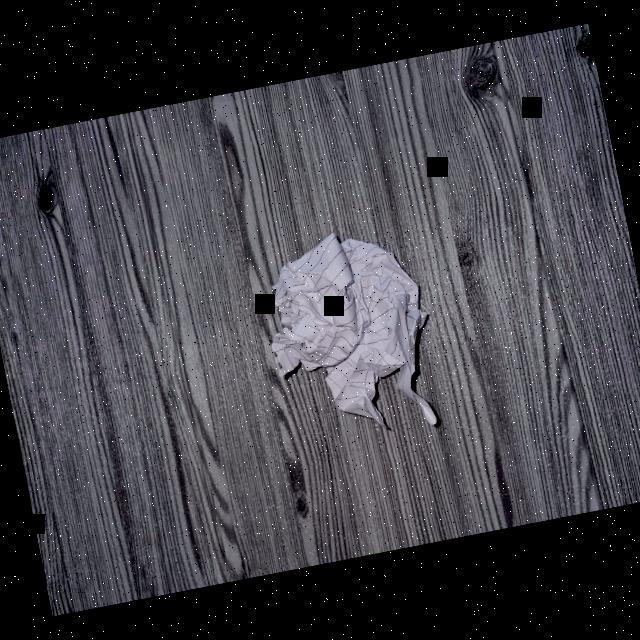scrap_paper: (262, 220, 442, 453)
